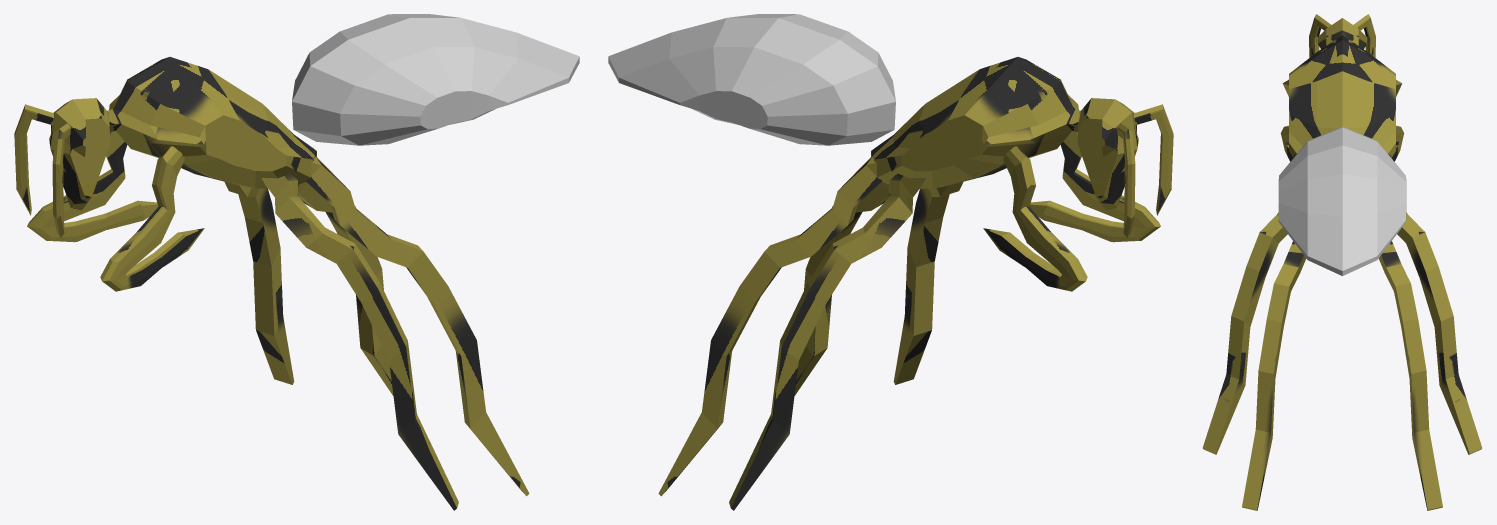
File: wasp.fbx
The picture shows the model from 3 angles, left to right: view 1: azimuth 30°, elevation 25°; view 2: azimuth 150°, elevation 25°; view 3: azimuth 270°, elevation 25°; orthographic projection. The views are drawn at different scales.
Visible parts, largest first — view 1: wasp.002, wasp.001, wasp.009, wasp.007, wasp.008, wasp.006, wasp.005, wasp.004, wasp.003; view 2: wasp.002, wasp.001, wasp.009, wasp.008, wasp.007, wasp.005, wasp.006, wasp.003, wasp.004; view 3: wasp.002, wasp.001, wasp.009, wasp.007, wasp.008, wasp.003, wasp.004.
Boxes of the visible parts, bbox=[...] form: wasp.002: bbox=[292, 14, 579, 145]; wasp.001: bbox=[49, 57, 316, 210]; wasp.009: bbox=[298, 156, 529, 496]; wasp.007: bbox=[262, 173, 458, 510]; wasp.008: bbox=[224, 181, 294, 384]; wasp.006: bbox=[100, 146, 204, 291]; wasp.005: bbox=[27, 131, 158, 242]; wasp.004: bbox=[14, 104, 53, 215]; wasp.003: bbox=[52, 123, 70, 237]; wasp.002: bbox=[608, 14, 895, 145]; wasp.001: bbox=[871, 57, 1138, 210]; wasp.009: bbox=[658, 156, 889, 496]; wasp.008: bbox=[729, 173, 925, 510]; wasp.007: bbox=[893, 181, 963, 384]; wasp.005: bbox=[983, 146, 1087, 291]; wasp.006: bbox=[1029, 131, 1160, 242]; wasp.003: bbox=[1134, 104, 1173, 215]; wasp.004: bbox=[1117, 123, 1135, 237]; wasp.002: bbox=[1278, 126, 1406, 275]; wasp.001: bbox=[1282, 18, 1402, 157]; wasp.009: bbox=[1242, 241, 1442, 510]; wasp.007: bbox=[1202, 212, 1287, 454]; wasp.008: bbox=[1397, 212, 1482, 454]; wasp.003: bbox=[1309, 14, 1331, 57]; wasp.004: bbox=[1353, 14, 1375, 57].
Size of the model in its own units: 154 by 125 by 88.54.
